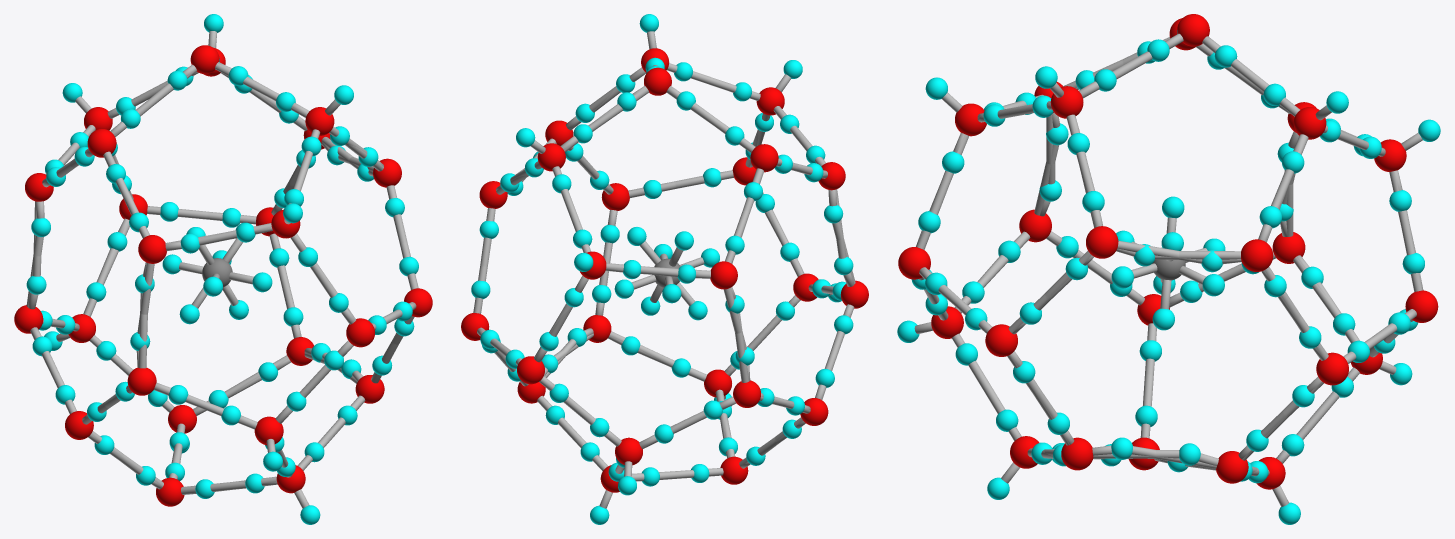
The model's file is asset.glb.
3 renders of one model, left to right at view 1: azimuth 30°, elevation 25°; view 2: azimuth 150°, elevation 25°; view 3: azimuth 270°, elevation 25°, orthographic. The views are drawn at different scales.
Visible parts, largest first — view 1: CMAtom_105, CMAtom_96, CMAtom_45, CMAtom_110, CMAtom_42, CMAtom_19, CMAtom_95, CMAtom_62, CMAtom_0, CMAtom_43, CMAtom_101, CMAtom_1 (+9 smaller); view 2: CMAtom_104, CMAtom_110, CMAtom_42, CMAtom_95, CMAtom_41, CMAtom_16, CMAtom_63, CMAtom_96, CMAtom_64, CMAtom_0, CMAtom_17, CMAtom_82 (+7 smaller); view 3: CMAtom_43, CMAtom_44, CMAtom_81, CMAtom_82, CMAtom_42, CMAtom_1, CMAtom_2, CMAtom_45, CMAtom_41, CMAtom_63, CMAtom_62, CMAtom_95 (+9 smaller).
Boxes of the visible parts, bbox=[...] form: CMAtom_105: bbox=[138, 235, 166, 263]; CMAtom_96: bbox=[127, 367, 156, 395]; CMAtom_45: bbox=[346, 318, 374, 347]; CMAtom_110: bbox=[87, 129, 116, 157]; CMAtom_42: bbox=[190, 45, 219, 73]; CMAtom_19: bbox=[254, 416, 283, 445]; CMAtom_95: bbox=[14, 305, 43, 333]; CMAtom_62: bbox=[305, 107, 334, 135]; CMAtom_0: bbox=[156, 477, 184, 506]; CMAtom_43: bbox=[373, 158, 401, 187]; CMAtom_101: bbox=[65, 411, 93, 439]; CMAtom_1: bbox=[355, 375, 384, 403]; CMAtom_104: bbox=[710, 261, 737, 289]; CMAtom_110: bbox=[750, 144, 778, 172]; CMAtom_42: bbox=[644, 67, 671, 95]; CMAtom_95: bbox=[733, 380, 760, 407]; CMAtom_41: bbox=[517, 356, 544, 384]; CMAtom_16: bbox=[615, 437, 642, 465]; CMAtom_63: bbox=[537, 143, 565, 171]; CMAtom_96: bbox=[840, 280, 868, 308]; CMAtom_64: bbox=[756, 87, 784, 115]; CMAtom_0: bbox=[720, 456, 748, 484]; CMAtom_17: bbox=[704, 369, 731, 397]; CMAtom_82: bbox=[601, 183, 629, 210]; CMAtom_43: bbox=[1086, 226, 1118, 258]; CMAtom_44: bbox=[1241, 239, 1273, 271]; CMAtom_81: bbox=[1316, 352, 1348, 385]; CMAtom_82: bbox=[985, 324, 1017, 356]; CMAtom_42: bbox=[1177, 14, 1209, 46]; CMAtom_1: bbox=[1061, 437, 1093, 470]; CMAtom_2: bbox=[1216, 451, 1248, 483]; CMAtom_45: bbox=[898, 247, 930, 279]; CMAtom_41: bbox=[1405, 290, 1438, 322]; CMAtom_63: bbox=[1293, 107, 1326, 139]; CMAtom_62: bbox=[1050, 86, 1083, 118]; CMAtom_95: bbox=[1272, 232, 1305, 263].
Bounding box in the file's own units: 7.23 × 9.83 × 9.7.
